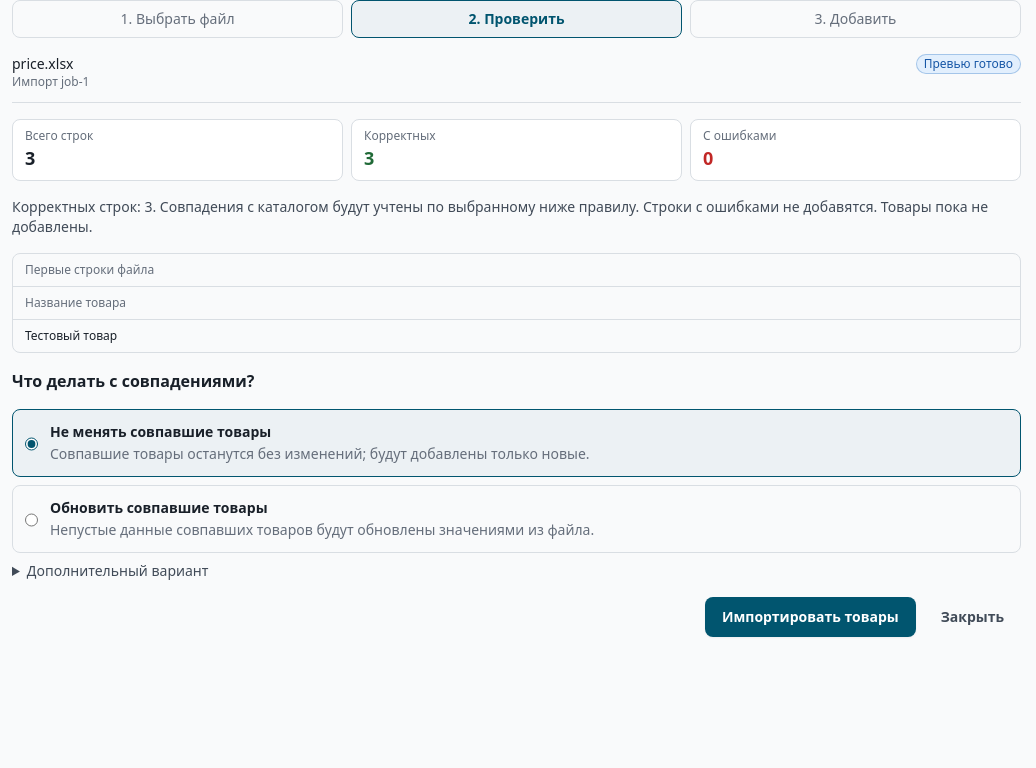
Test case: ImportWizard › keeps duplicate creation behind an explicit advanced choice
This screenshot has width=1036, height=768.
Expected: the radio button labelled "Создать отдельные копии" is not shown
Click the heading "Дополнительный вариант" at (118, 570), box [27,561,208,580]
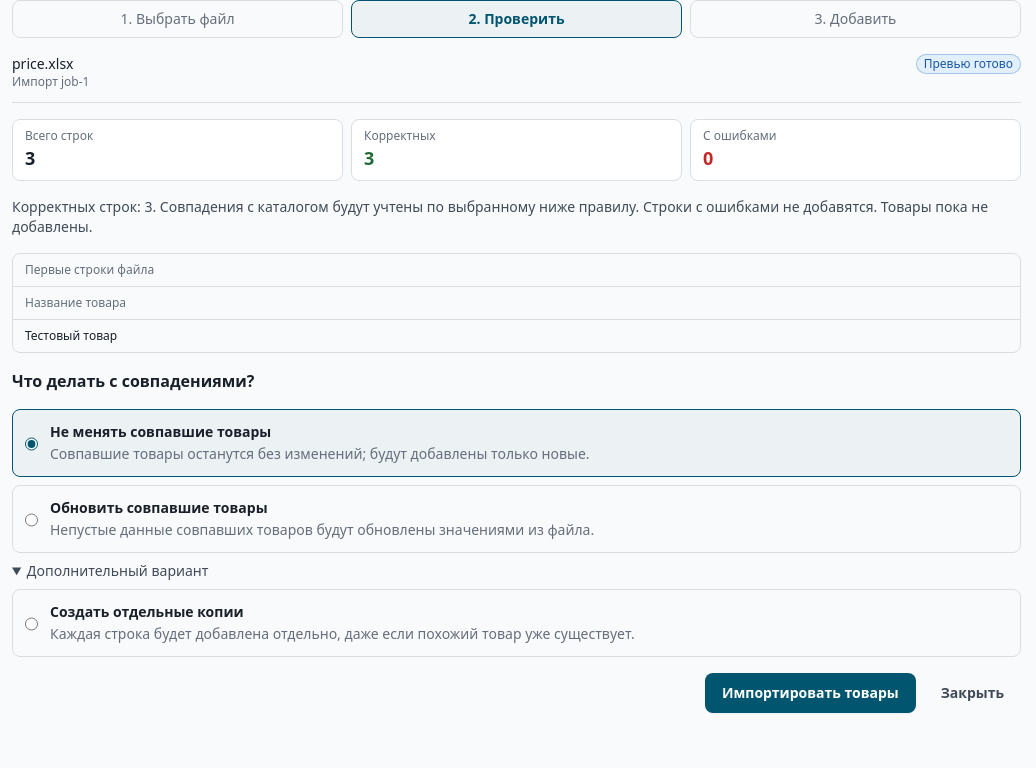
Click the radio button labelled "Создать отдельные копии" at (32, 624), box [25,604,38,644]
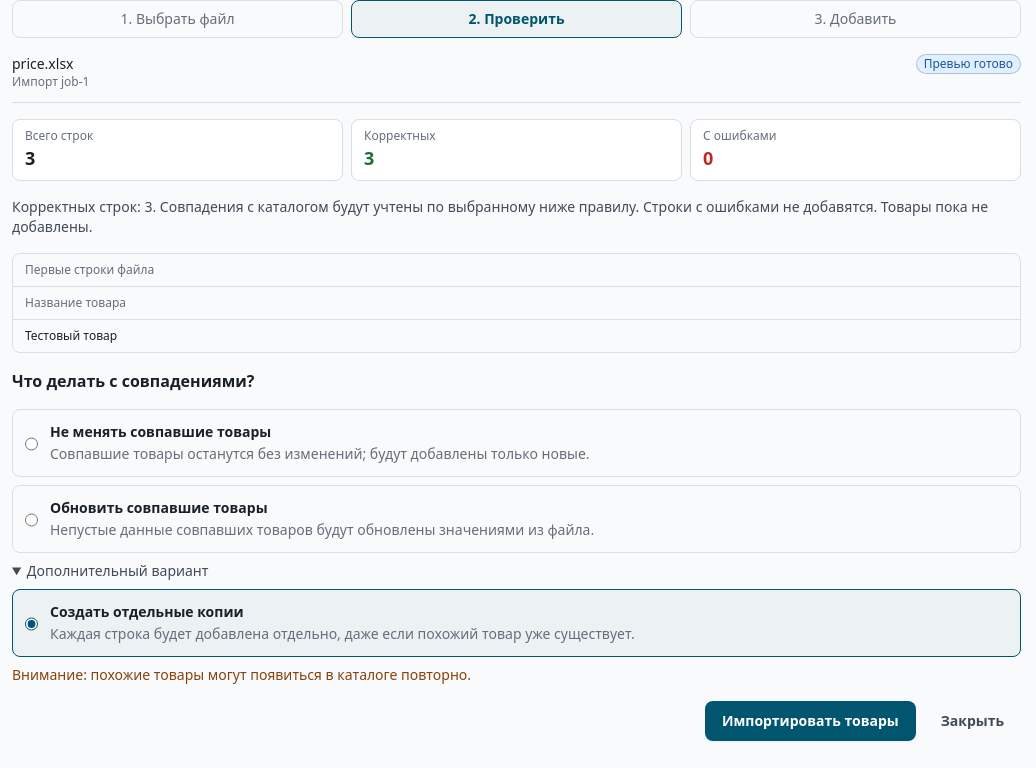
Now the text "Внимание: похожие товары могут появиться в каталоге повторно." is shown, box [12,665,471,684]
